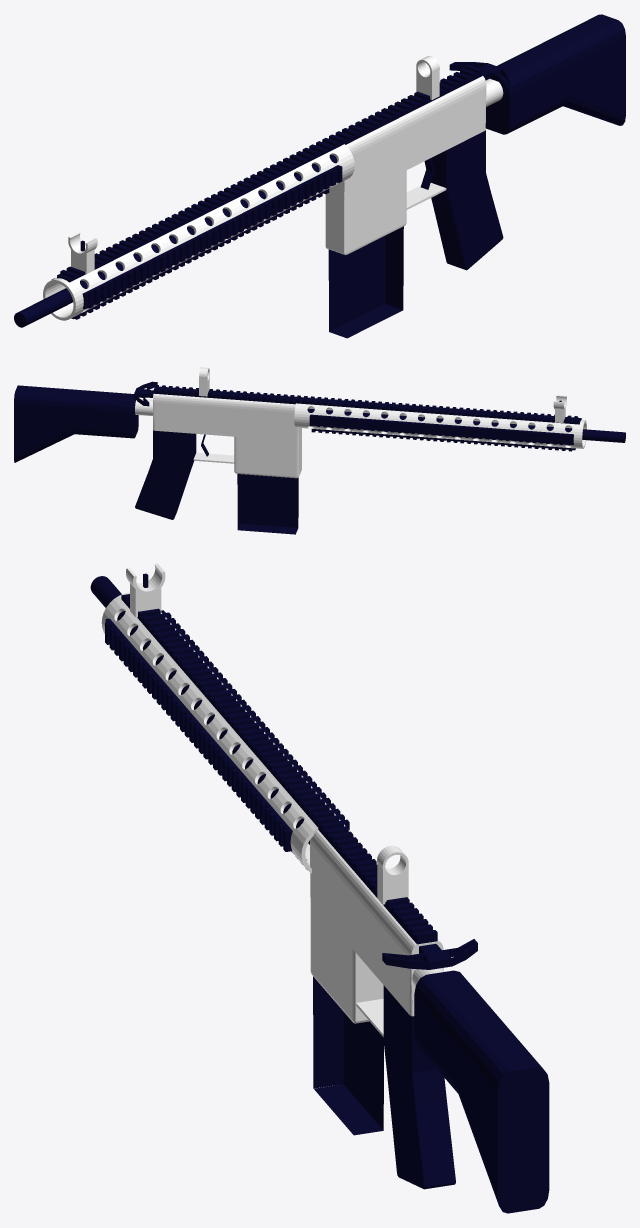
The model's file is stoner0014.obj.
3 renders of one model, top to bottom at view 1: azimuth 30°, elevation 25°; view 2: azimuth 150°, elevation 25°; view 3: azimuth 270°, elevation 25°, orthographic. The views are drawn at different scales.
Visible parts, largest first — view 1: shoulderStock, upperReceiver, rearPistolGrip, picatinyRail, mag, handGuard, picatinyRailLeft, magWell, barrel, picatinyRailBottom, handle, lowerTriggerGuard (+1 smaller); view 2: shoulderStock, upperReceiver, handGuard, rearPistolGrip, mag, picatinyRail, picatinyRailRight, magWell, barrel, picatinyRailBottom, lowerTriggerGuard, handle; view 3: shoulderStock, picatinyRail, rearPistolGrip, upperReceiver, mag, handGuard, picatinyRailLeft, magWell, picatinyRailRight, handle, barrel, rearSight.
Part boxes in pixels (x1,y1,x2,y2): shoulderStock: [485, 14, 625, 134]; upperReceiver: [326, 76, 486, 200]; rearPistolGrip: [431, 130, 503, 270]; picatinyRail: [57, 65, 482, 282]; mag: [328, 226, 403, 338]; handGuard: [43, 144, 354, 320]; picatinyRailLeft: [82, 165, 342, 309]; magWell: [325, 170, 406, 255]; barrel: [14, 154, 337, 327]; picatinyRailBottom: [71, 189, 329, 319]; handle: [449, 62, 510, 89]; lowerTriggerGuard: [406, 183, 446, 209]; shoulderStock: [14, 385, 138, 462]; upperReceiver: [153, 393, 301, 441]; handGuard: [294, 403, 586, 448]; rearPistolGrip: [135, 430, 196, 519]; mag: [237, 474, 298, 534]; picatinyRail: [153, 385, 581, 424]; picatinyRailRight: [309, 414, 573, 445]; magWell: [234, 435, 301, 478]; barrel: [307, 408, 625, 442]; picatinyRailBottom: [311, 429, 575, 451]; lowerTriggerGuard: [193, 452, 234, 463]; handle: [134, 381, 157, 406]; shoulderStock: [414, 970, 549, 1213]; picatinyRail: [121, 594, 437, 944]; rearPistolGrip: [383, 985, 455, 1189]; upperReceiver: [310, 830, 443, 1016]; mag: [313, 976, 383, 1135]; handGuard: [101, 592, 353, 873]; picatinyRailLeft: [105, 618, 292, 851]; magWell: [310, 900, 383, 1023]; picatinyRailRight: [161, 610, 349, 829]; handle: [382, 939, 477, 969]; barrel: [90, 576, 309, 844]; rearSight: [377, 863, 408, 904].
Size of the model in its own units: 8.56 by 2.51 by 3.34.
